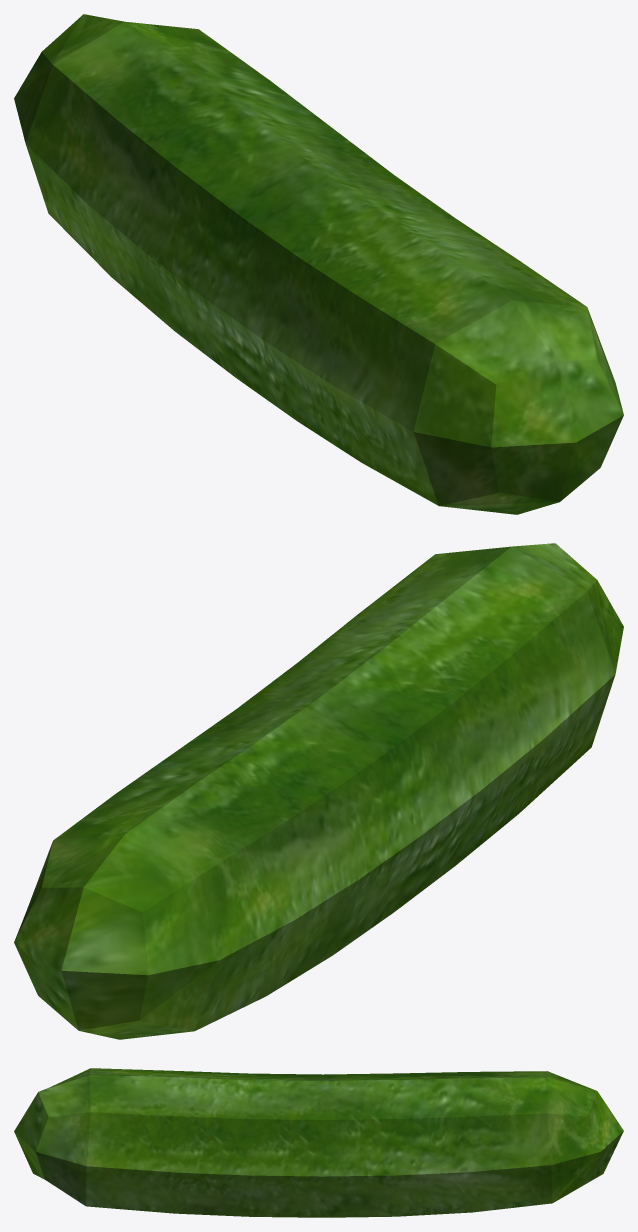
Rendered from cucumber.obj.
3 renders of one model, top to bottom at view 1: azimuth 30°, elevation 25°; view 2: azimuth 150°, elevation 25°; view 3: azimuth 270°, elevation 25°, orthographic. The views are drawn at different scales.
Size of the model in its own units: 1 by 1.05 by 4.24.
Materials: 1 (1 with a texture image).
